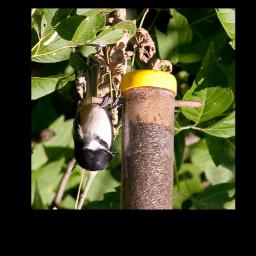Swallow: (71, 90, 123, 174)
